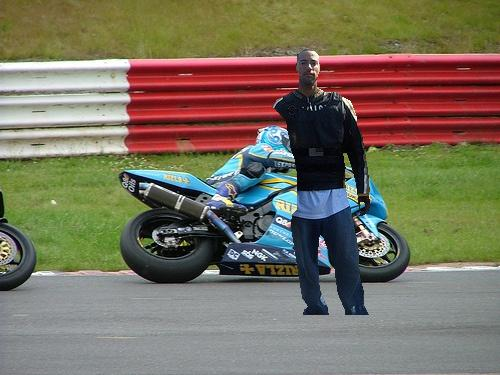tampered: (273, 50, 370, 315)
